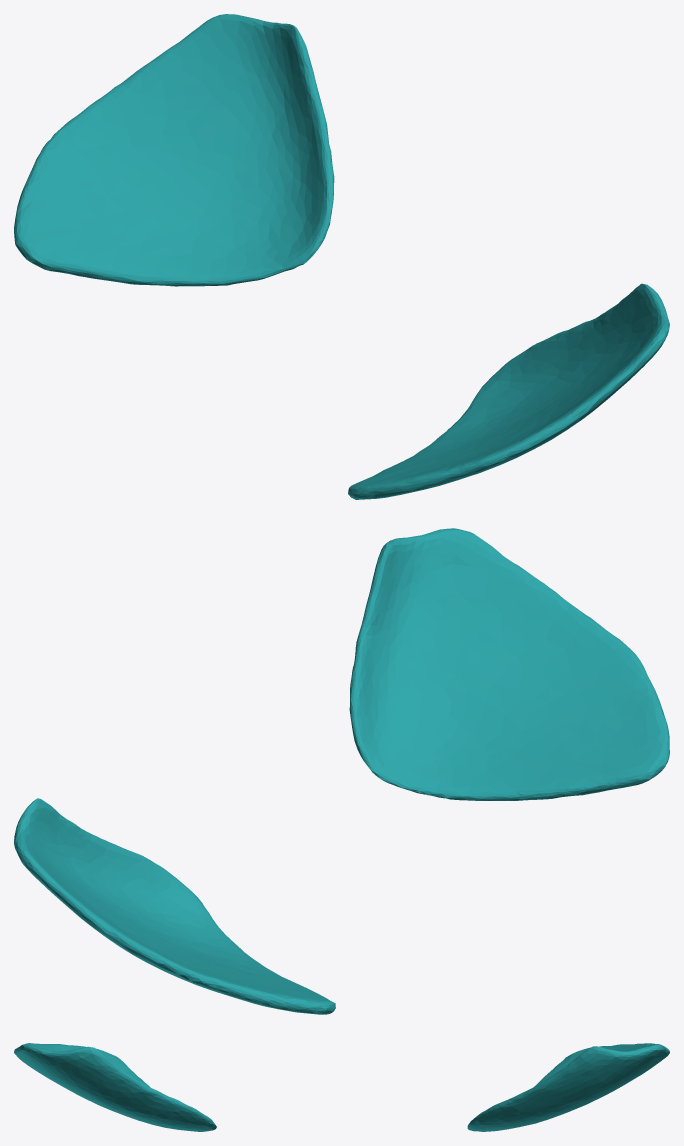
3 views of the same model, one above another, from view 1: azimuth 30°, elevation 25°; view 2: azimuth 150°, elevation 25°; view 3: azimuth 270°, elevation 25° (orthographic). The views are drawn at different scales.
Visible parts, largest first — view 1: 593.obj; view 2: 593.obj; view 3: 593.obj.
Boxes of the visible parts, bbox=[...] form: 593.obj: bbox=[14, 14, 669, 499]; 593.obj: bbox=[14, 528, 669, 1014]; 593.obj: bbox=[14, 1043, 669, 1131].
Size of the model in its own units: 2654 by 1547 by 7214.
